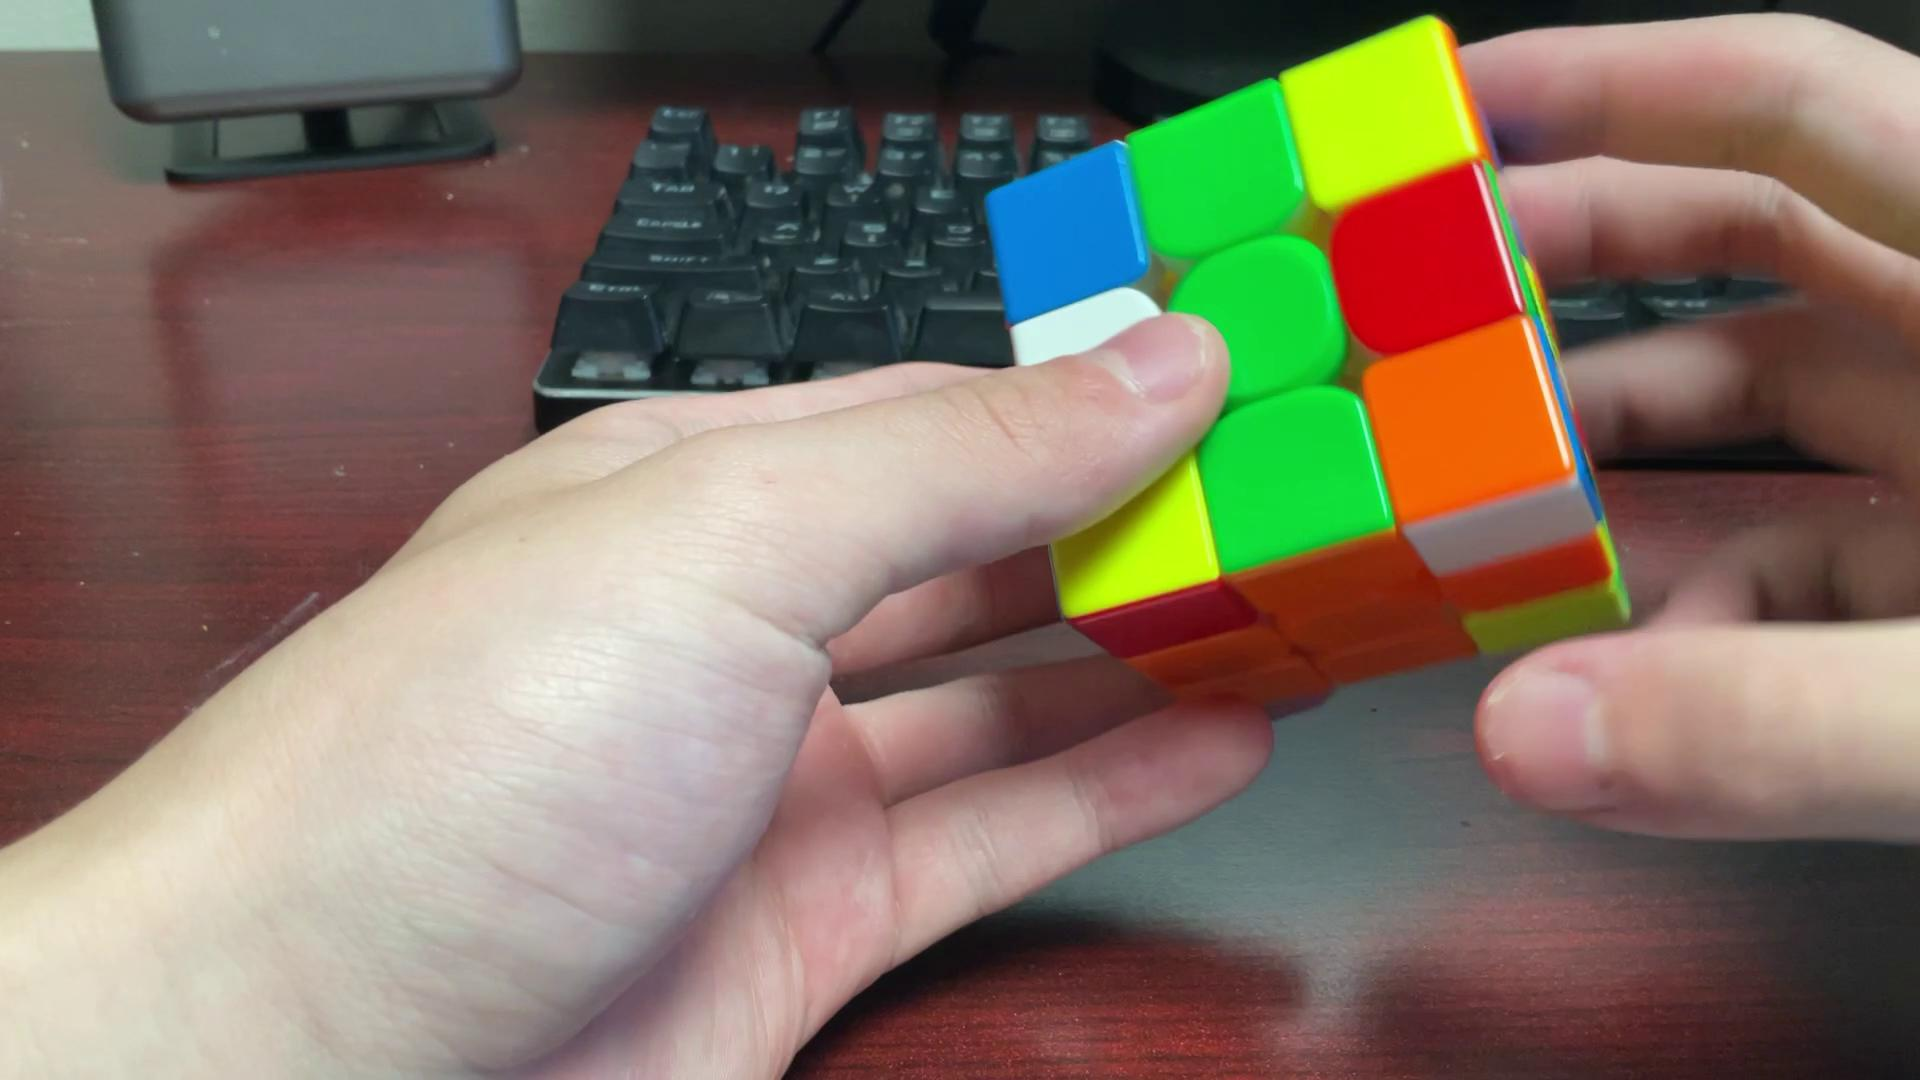Rubiks-Cube: (964, 3, 1646, 721)
